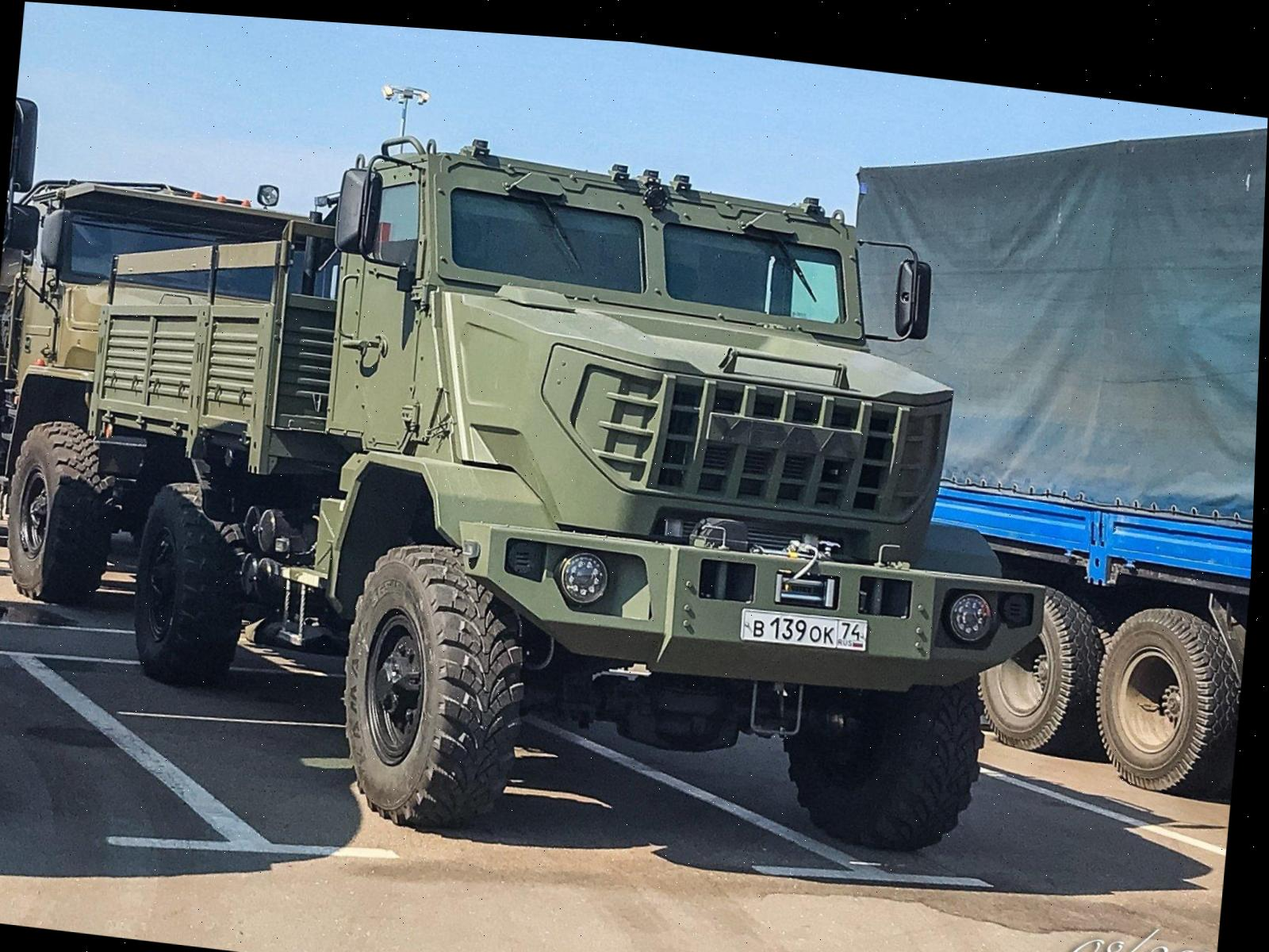truck: (82, 82, 1094, 892), (791, 65, 1269, 801), (0, 148, 305, 633)
